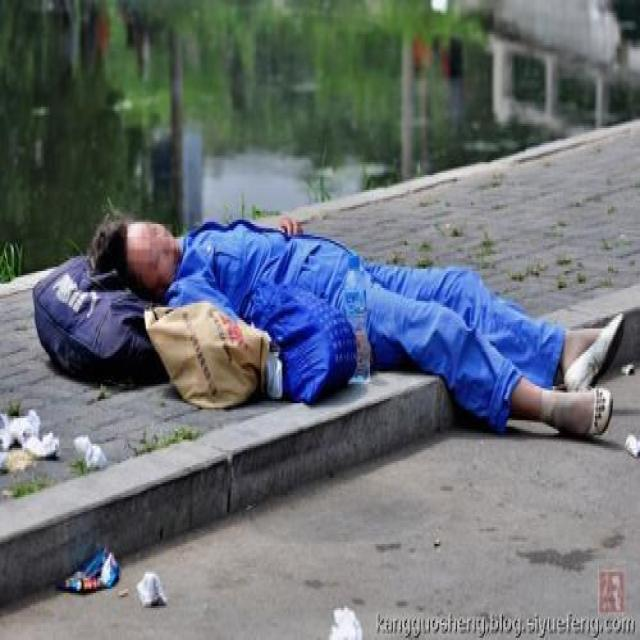fall: (93, 192, 617, 446)
